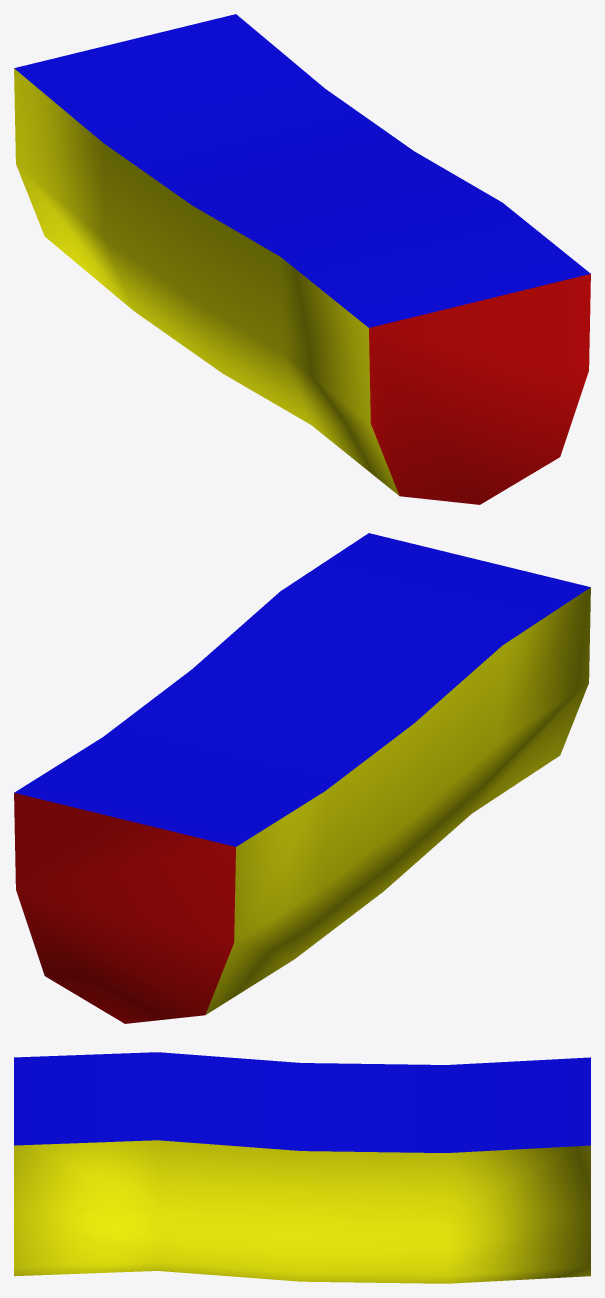
The picture shows the model from 3 angles, top to bottom: view 1: azimuth 30°, elevation 25°; view 2: azimuth 150°, elevation 25°; view 3: azimuth 270°, elevation 25°; orthographic projection. The views are drawn at different scales.
Parts seen in each view (by area): view 1: polySurface120; view 2: polySurface120; view 3: polySurface120.
Part boxes in pixels (x1=…): polySurface120: x1=14, y1=14, x2=590, y2=504; polySurface120: x1=14, y1=533, x2=590, y2=1023; polySurface120: x1=14, y1=1052, x2=590, y2=1283.
Size of the model in its own units: 23.58 by 22.31 by 65.27.
